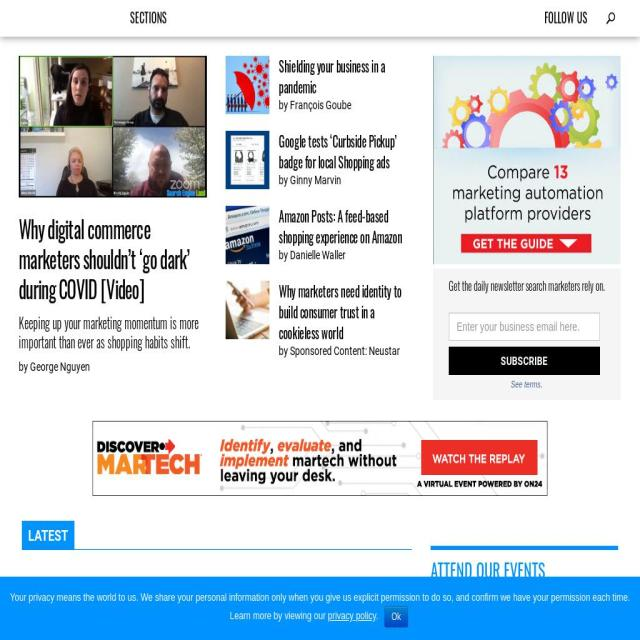button: (19, 56, 208, 304), (448, 347, 600, 375), (19, 358, 208, 374), (226, 172, 414, 188), (226, 98, 414, 112), (226, 248, 414, 262), (226, 344, 414, 358), (22, 521, 74, 550), (538, 8, 594, 27), (124, 8, 173, 27), (384, 606, 408, 627)
field: (448, 312, 600, 341)
heading: (159, 573, 394, 620), (431, 554, 618, 576)
iframe: (432, 56, 620, 264), (92, 421, 548, 496)
image: (19, 56, 208, 197)
link: (509, 590, 604, 606), (512, 616, 592, 632), (328, 609, 377, 623), (510, 379, 540, 389)
text: (9, 590, 630, 622), (19, 213, 208, 304), (19, 303, 208, 351), (279, 271, 402, 343), (278, 196, 402, 247), (279, 121, 397, 172), (159, 618, 412, 640), (278, 46, 386, 97), (448, 276, 605, 294), (226, 56, 270, 114), (226, 131, 270, 189), (226, 206, 270, 264), (226, 281, 270, 339), (431, 616, 512, 632), (430, 590, 510, 606), (376, 609, 378, 623), (541, 379, 543, 389)
